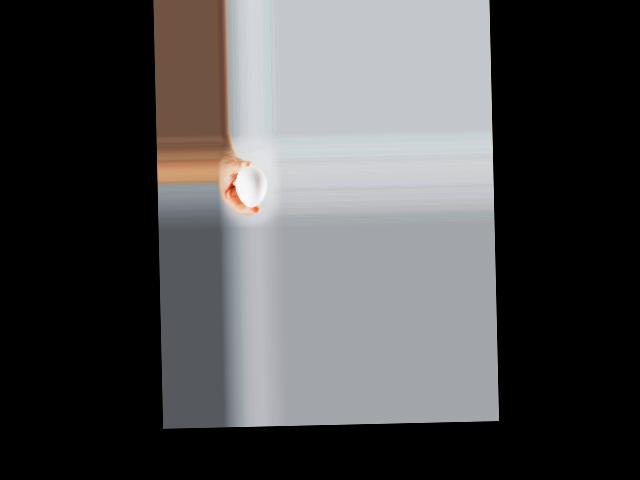egg: (235, 166, 267, 207)
